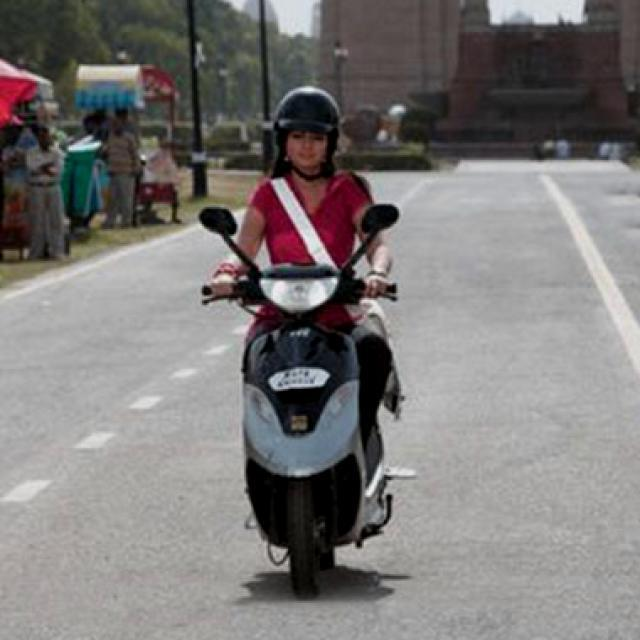Helmet: (270, 83, 347, 185)
